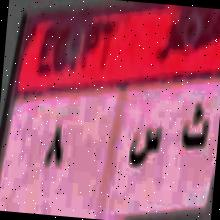8: (41, 121, 66, 176)
seen: (125, 118, 166, 176)
thaa: (179, 101, 212, 162)
